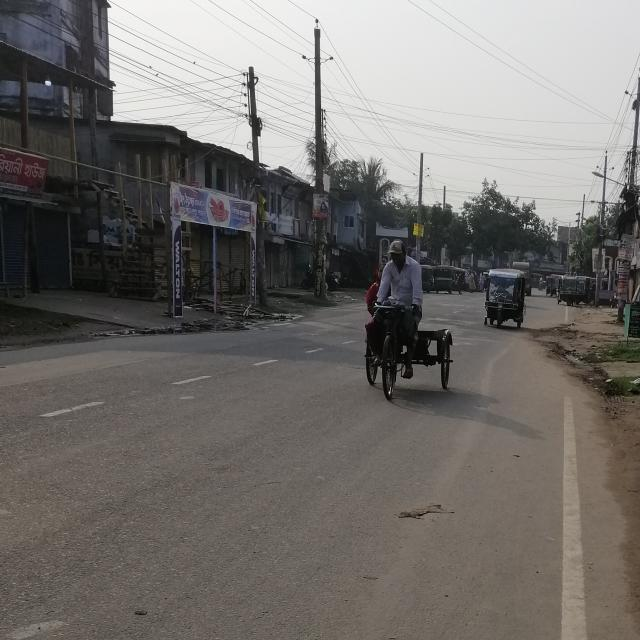Van: (361, 318, 466, 401)
